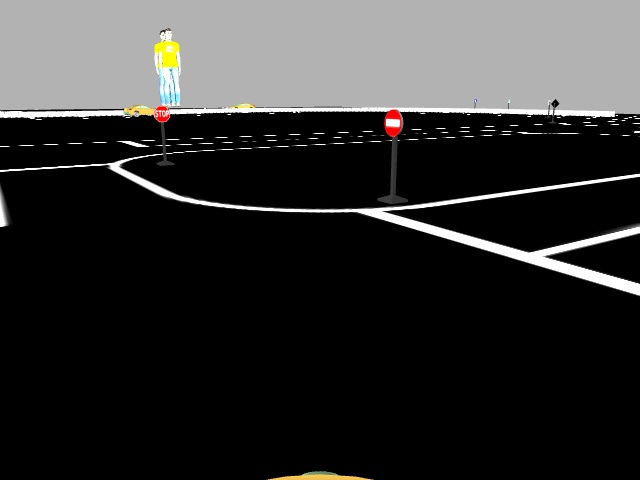NoEntry: (384, 111, 404, 136)
Stop: (153, 106, 170, 122)
